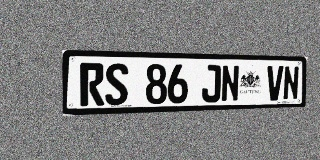6: (168, 64, 188, 104)
8: (146, 64, 167, 104)
J: (202, 65, 221, 103)
N: (221, 65, 240, 102), (283, 66, 299, 100)
R: (80, 63, 104, 106)
S: (105, 63, 128, 105)
V: (266, 66, 283, 101)
